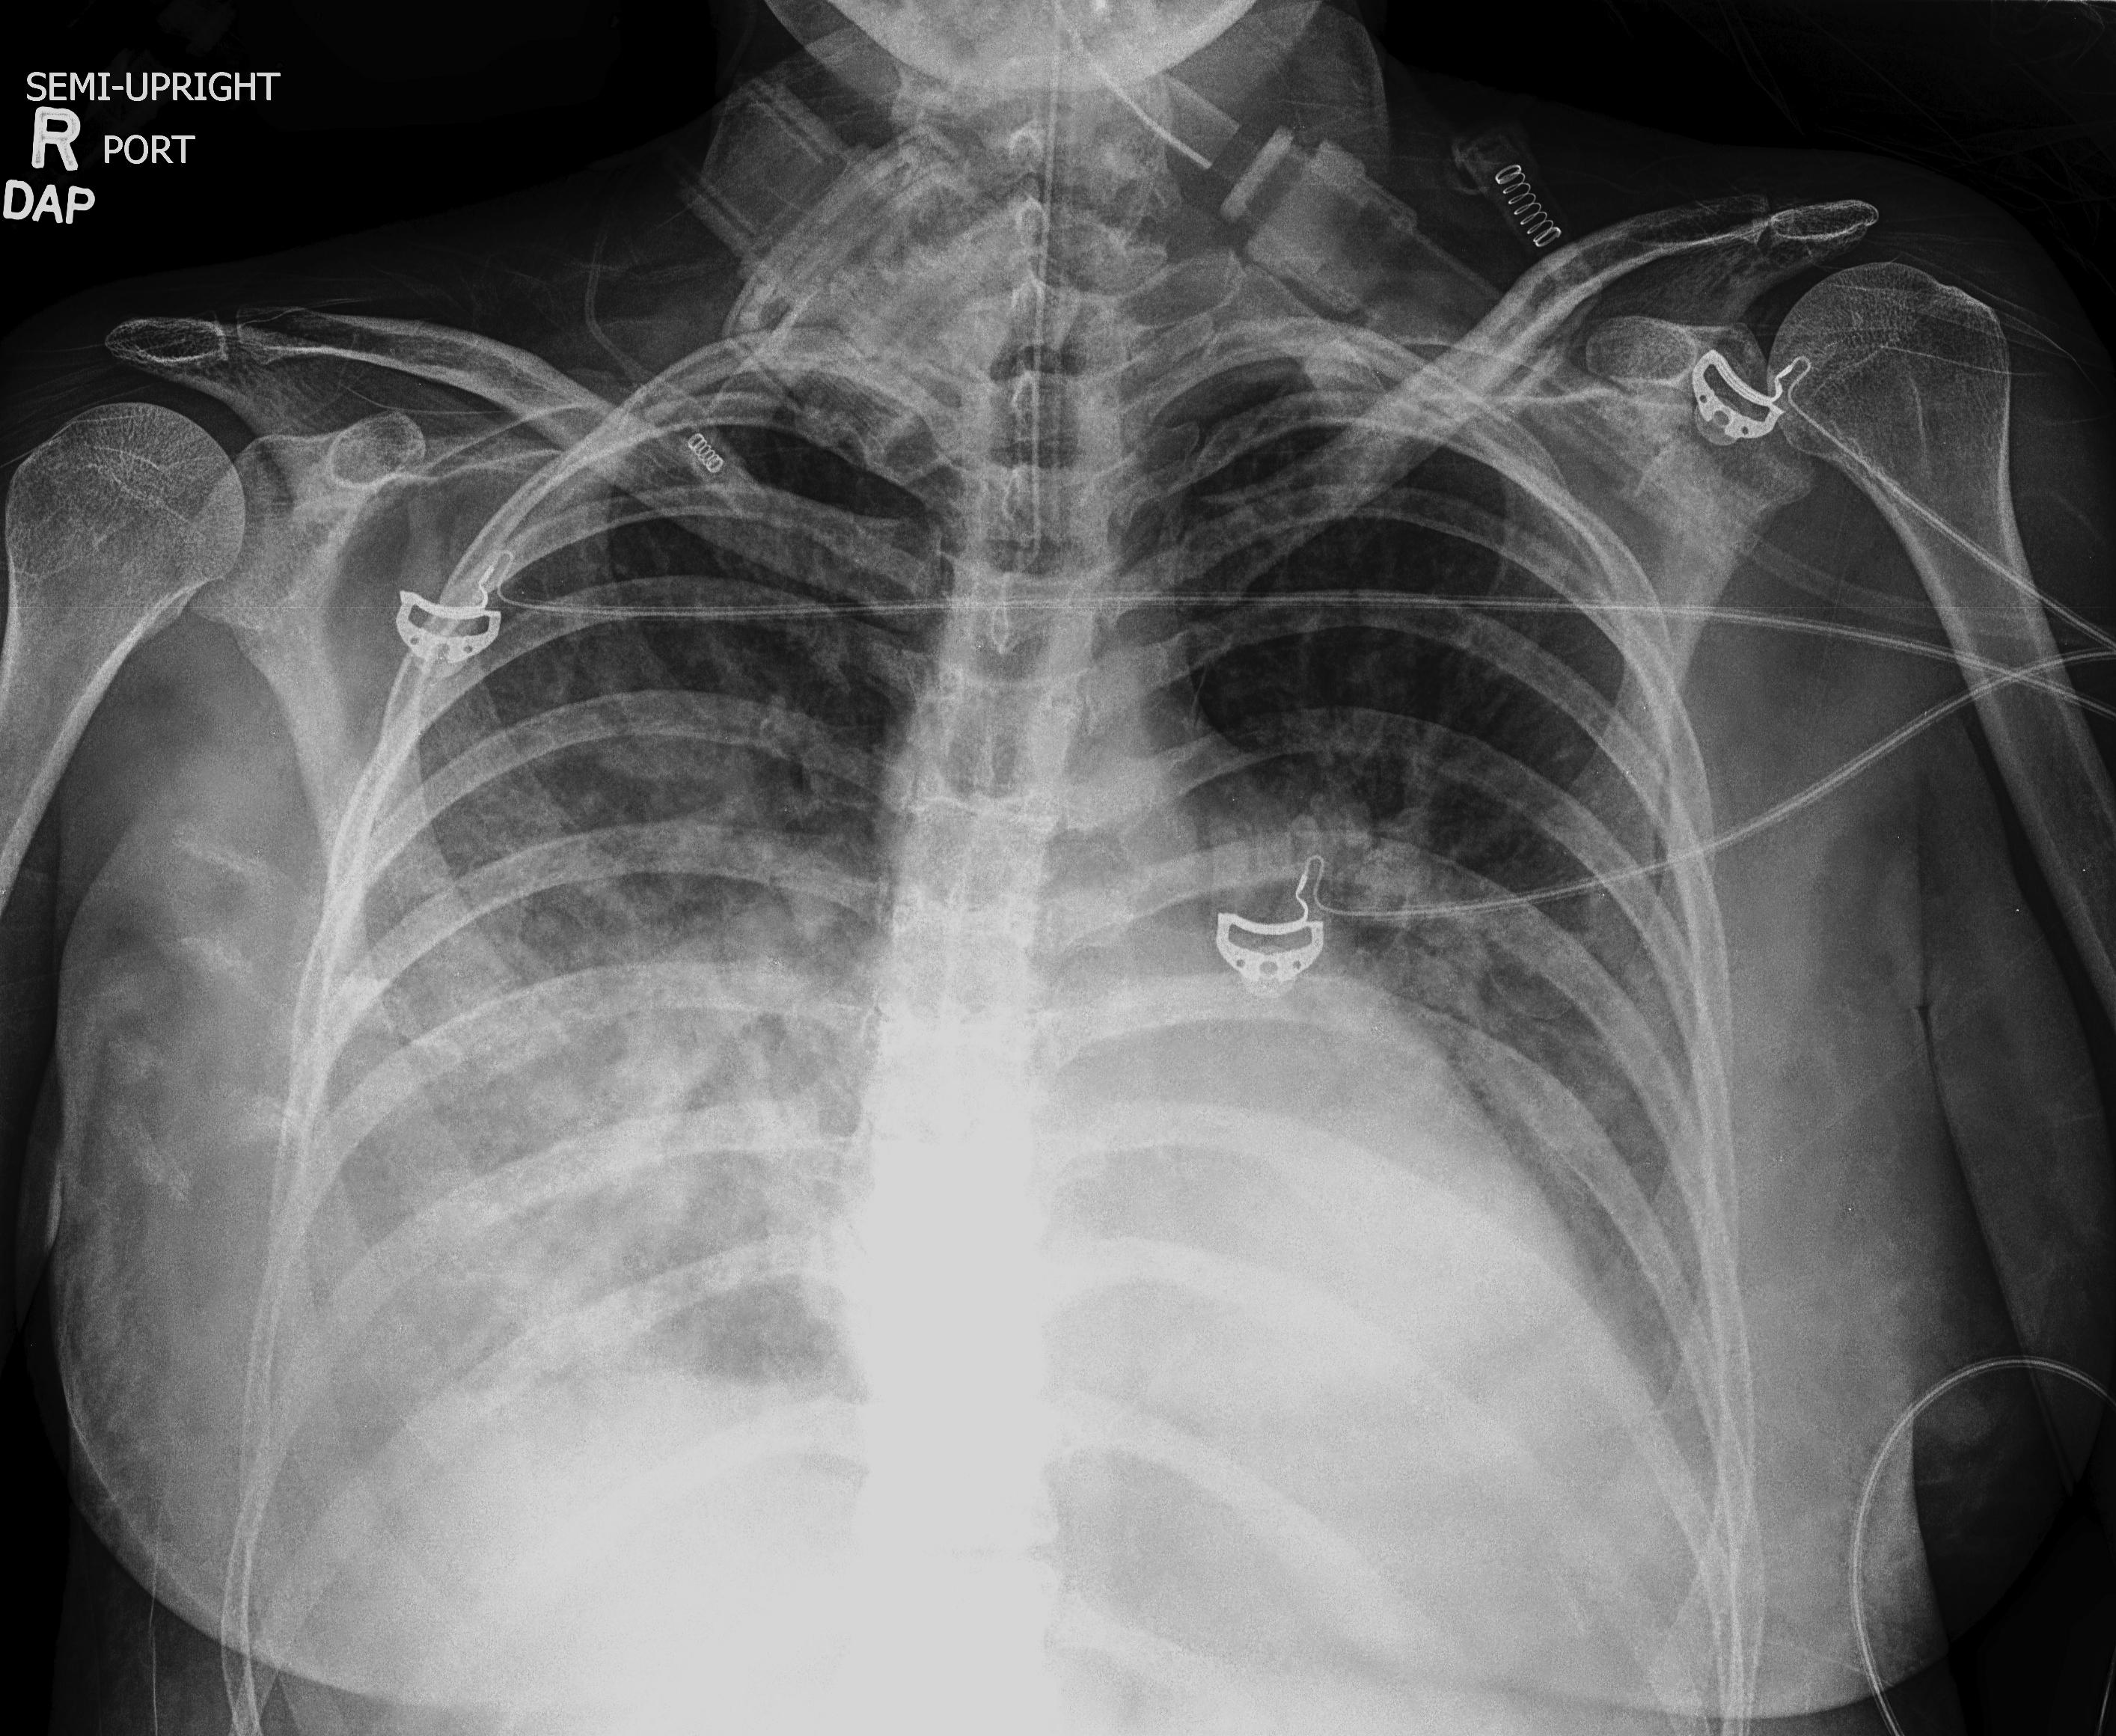Pleural Effusion: (234, 838, 868, 1724)
